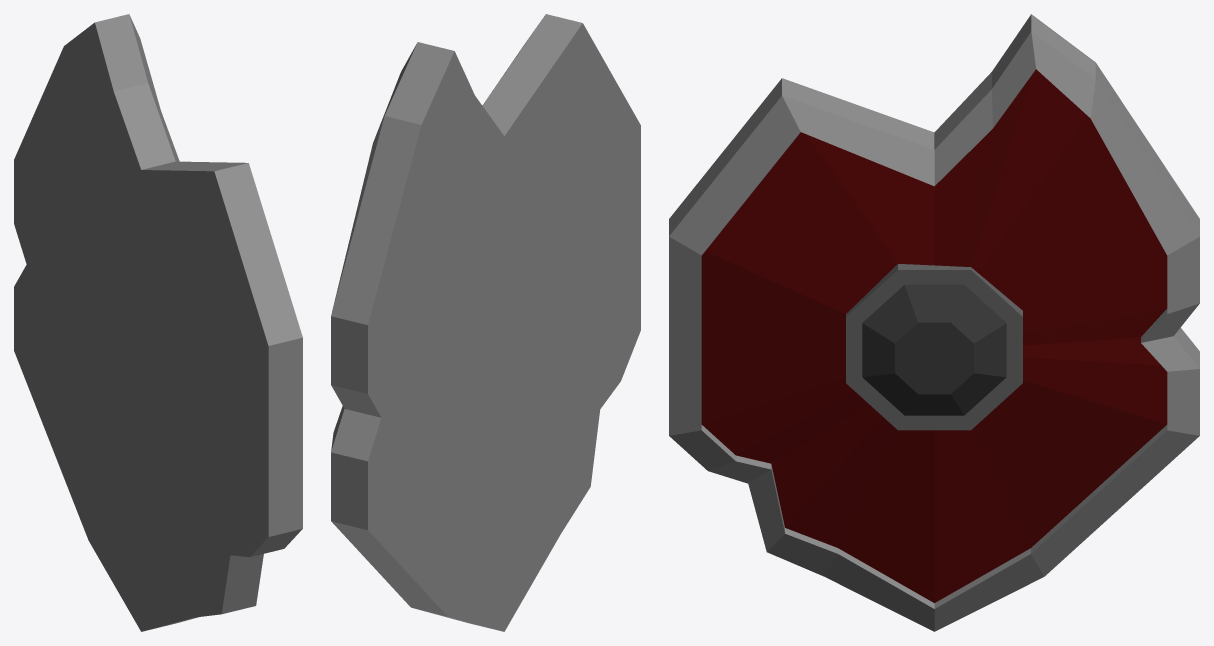
File: shield_2.fbx
3 renders of one model, left to right at view 1: azimuth 30°, elevation 25°; view 2: azimuth 150°, elevation 25°; view 3: azimuth 270°, elevation 25°, orthographic. The views are drawn at different scales.
Parts seen in each view (by area): view 1: Shield_2; view 2: Shield_2; view 3: Shield_2.
Boxes of the visible parts, box(x1,y1,x2,y2) form: Shield_2: box(14, 14, 302, 631); Shield_2: box(331, 14, 640, 631); Shield_2: box(669, 14, 1199, 631).
Bounding box in the file's own units: 37.54 × 264 × 211.
